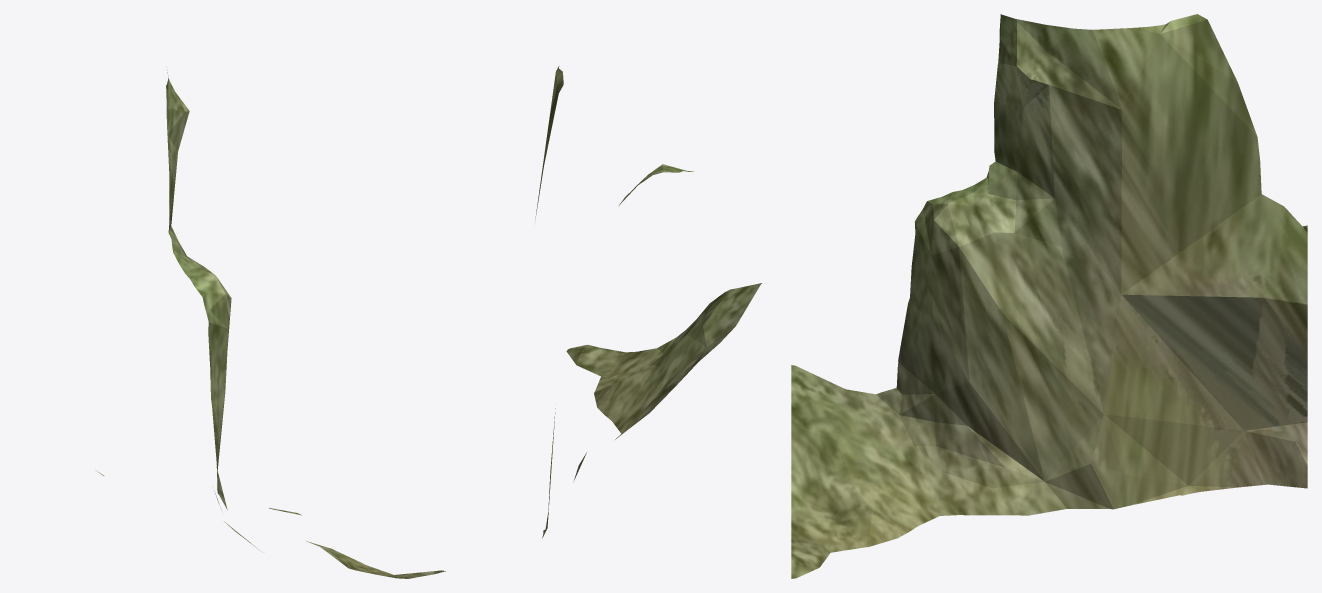
3 views of the same model, side by side, from view 1: azimuth 30°, elevation 25°; view 2: azimuth 150°, elevation 25°; view 3: azimuth 270°, elevation 25° (orthographic). The views are drawn at different scales.
Bounding box in the file's own units: 1.31 × 2.95 × 2.95.
Materials: 2 (2 with a texture image).
